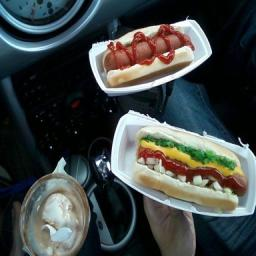hotdog: (104, 32, 192, 55), (231, 172, 249, 202), (102, 58, 132, 72), (137, 145, 150, 163)
